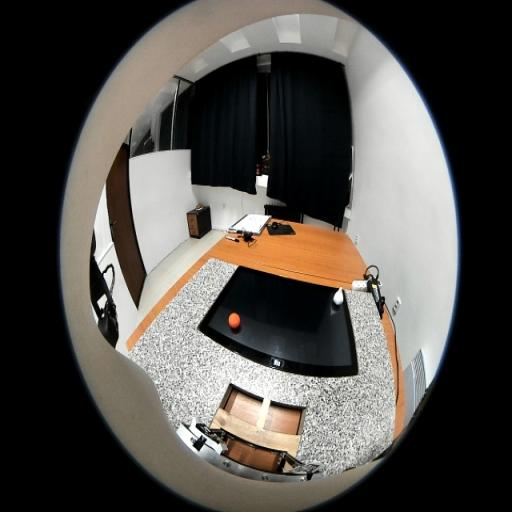Onion: (333, 286, 344, 305)
Orange: (228, 311, 241, 329)
